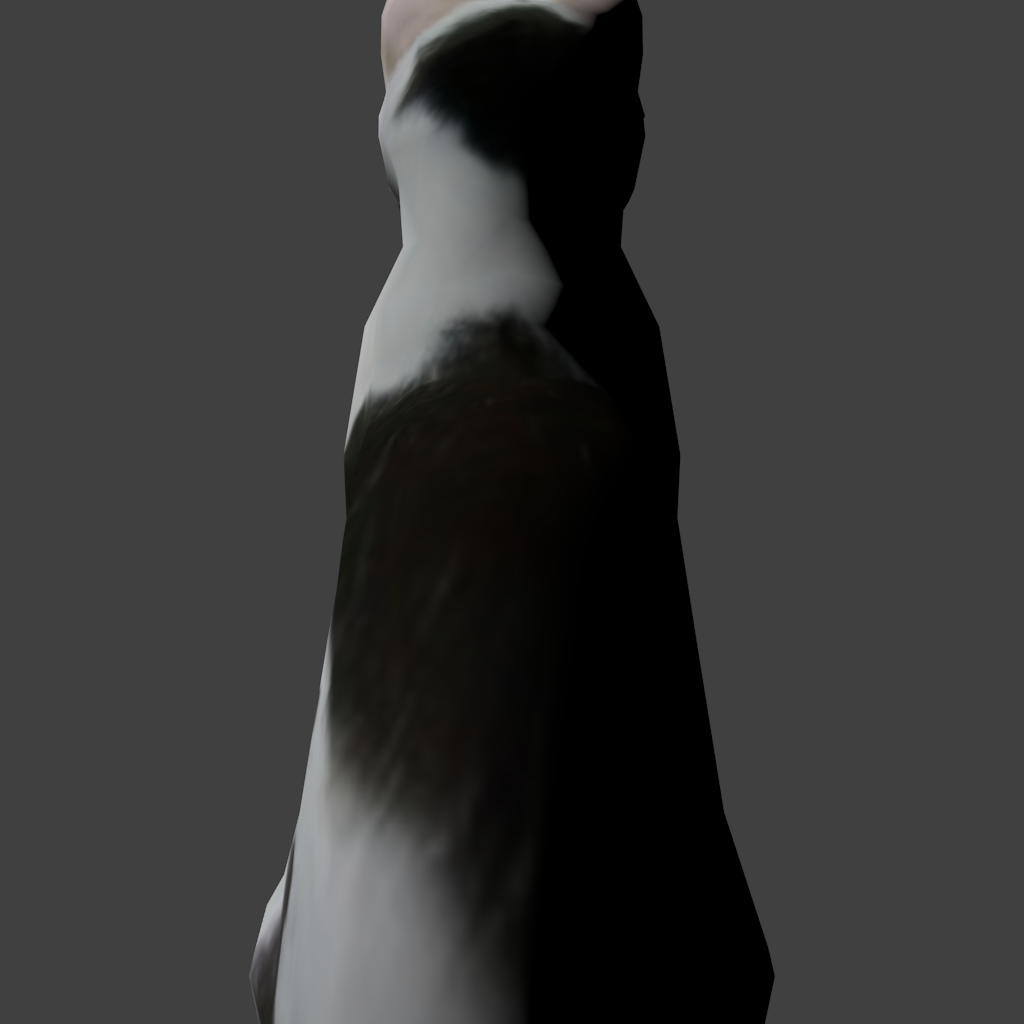Cat: (118, 0, 665, 1024)
